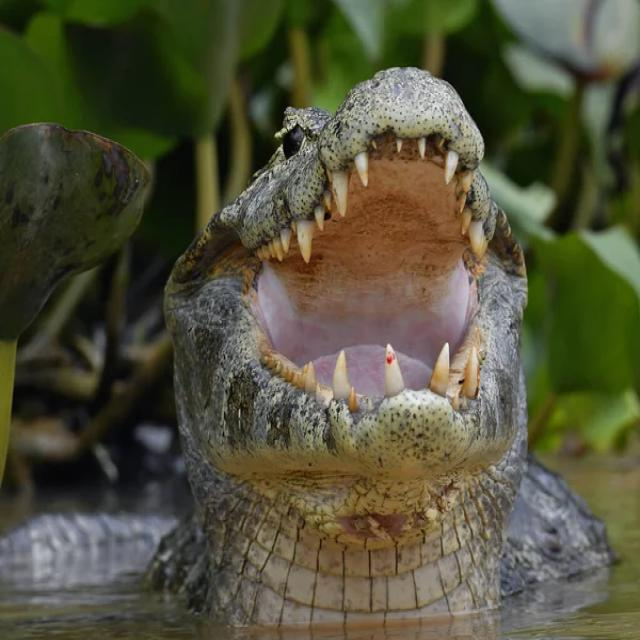Carnivorous: (0, 68, 618, 640)
